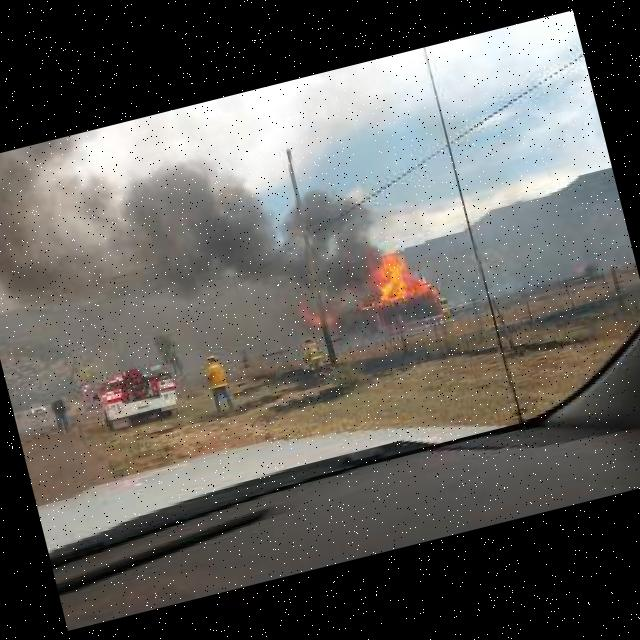fire: (353, 198, 445, 338)
